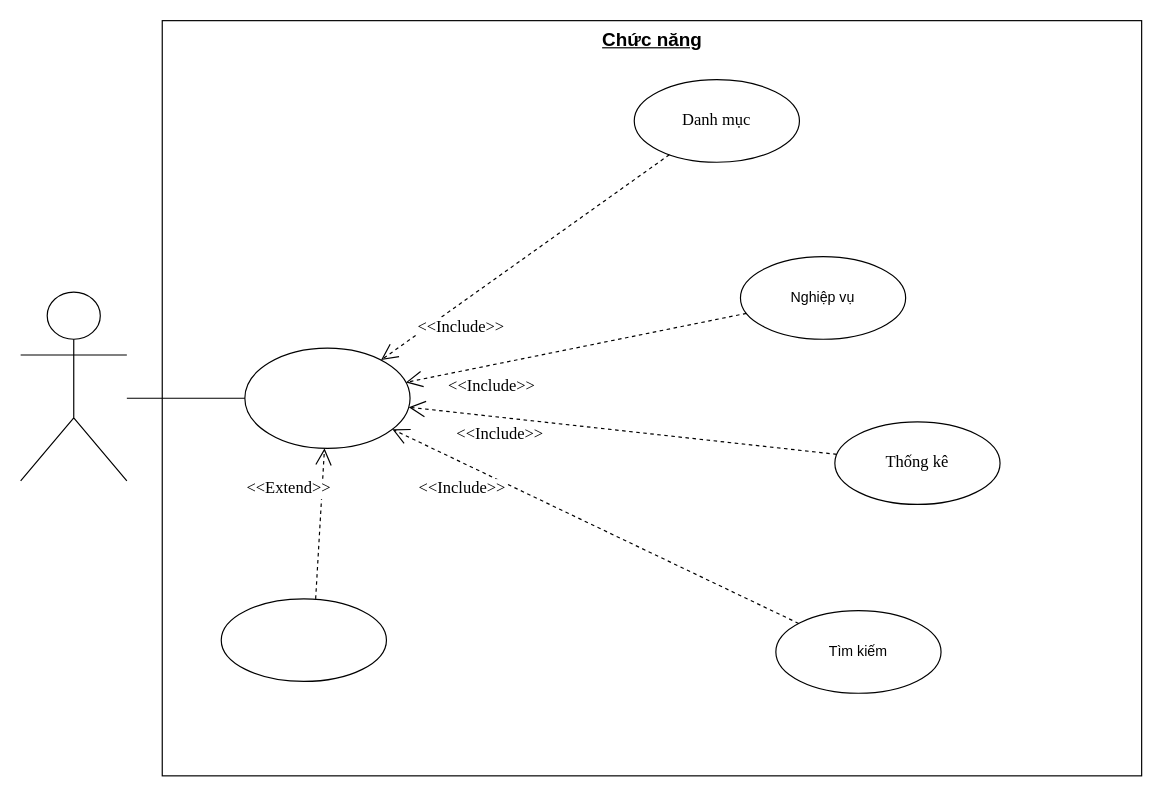
This 1162x796 diagram has some shape labels left out. Here are the shapes that lost their labels. From the top down, the centre of each, then its label:
(73,386): Giáo vụ
(327,397): Đăng nhập
(303,639): Đăng xuất
